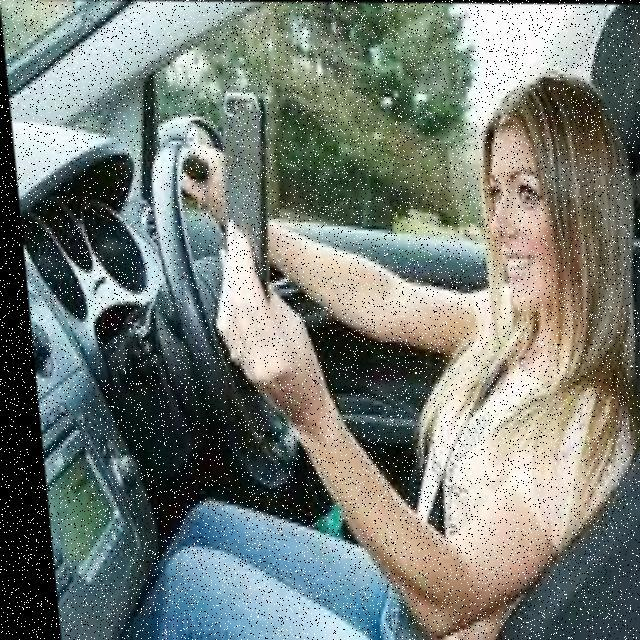seatbelt: (376, 306, 580, 640)
